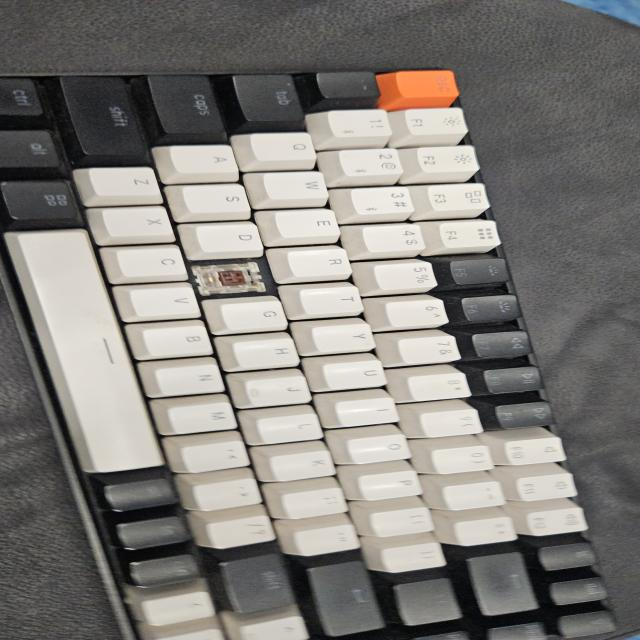C: (194, 267, 275, 292)
